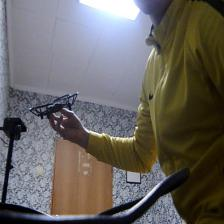drone: (26, 90, 86, 118)
